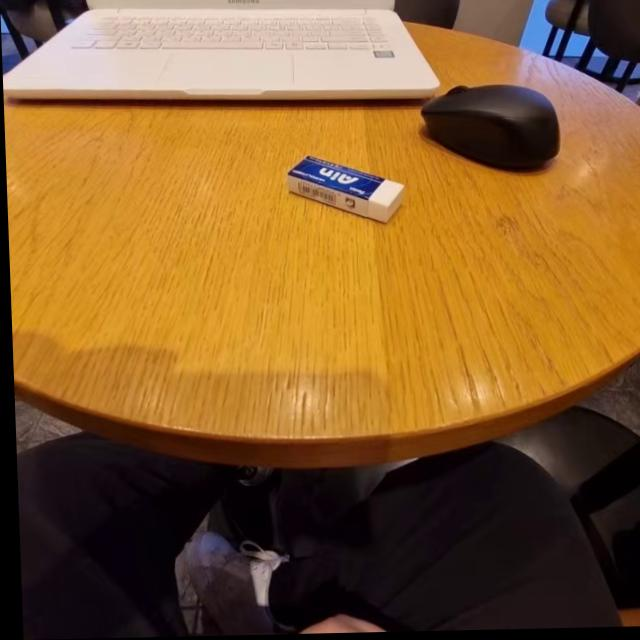eraser: (279, 140, 405, 237)
mouse: (409, 79, 567, 189)
